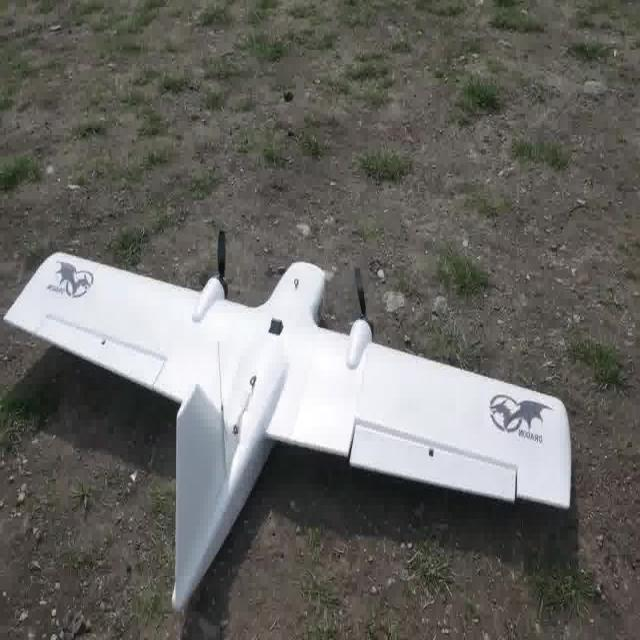iha: (1, 224, 576, 609)
